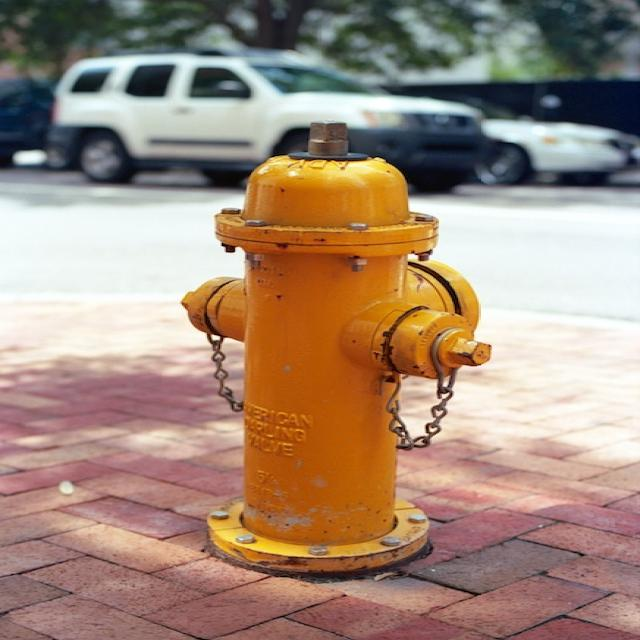Vehicle: (54, 47, 492, 195), (48, 50, 491, 194), (469, 97, 622, 185)
